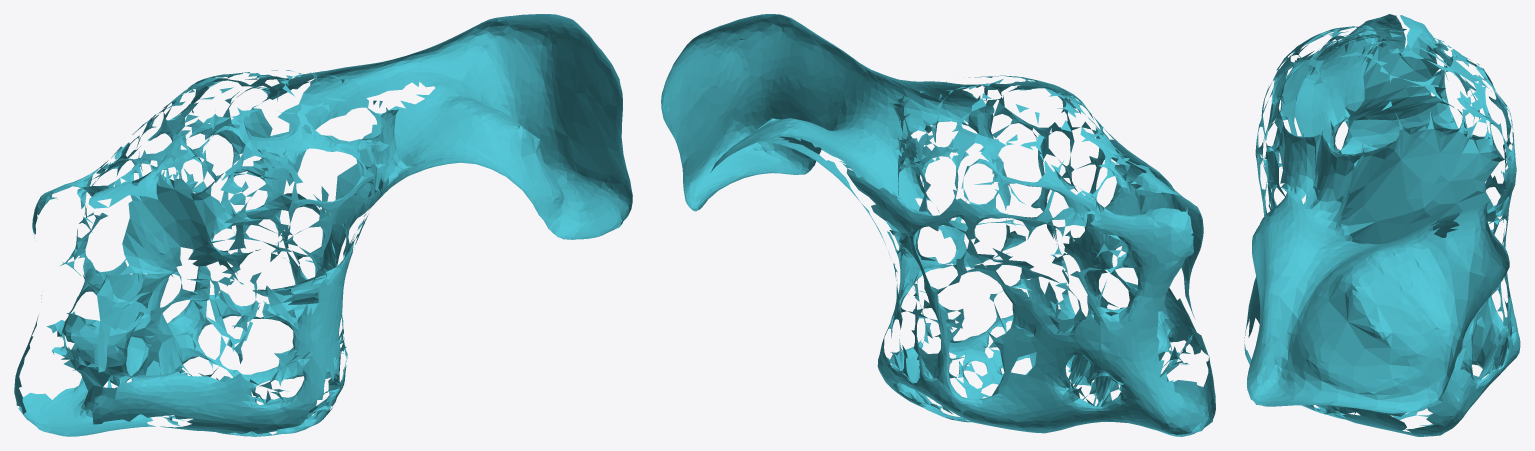
3 views of the same model, side by side, from view 1: azimuth 30°, elevation 25°; view 2: azimuth 150°, elevation 25°; view 3: azimuth 270°, elevation 25° (orthographic). The views are drawn at different scales.
Parts seen in each view (by area): view 1: Renderer Node; view 2: Renderer Node; view 3: Renderer Node.
Part boxes in pixels (left/top/right/bottom): Renderer Node: left=14, top=14, right=632, bottom=436; Renderer Node: left=661, top=14, right=1215, bottom=436; Renderer Node: left=1244, top=14, right=1520, bottom=436.
Size of the model in its own units: 0.9568 by 0.5471 by 0.3746.
Materials: 1 (1 with a texture image).
